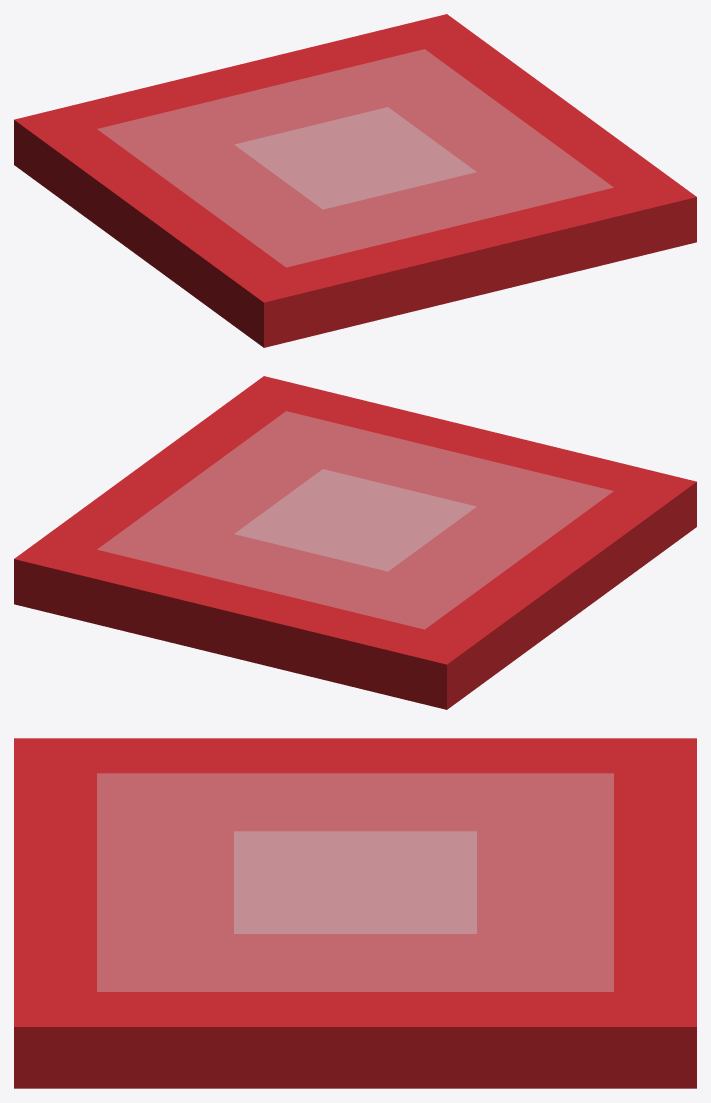
The model's file is TileRed.fbx.
The picture shows the model from 3 angles, top to bottom: view 1: azimuth 30°, elevation 25°; view 2: azimuth 150°, elevation 25°; view 3: azimuth 270°, elevation 25°; orthographic projection. The views are drawn at different scales.
Visible parts, largest first — view 1: Cube; view 2: Cube; view 3: Cube.
Part boxes in pixels (x1=…): Cube: x1=14, y1=14, x2=696, y2=347; Cube: x1=14, y1=376, x2=696, y2=709; Cube: x1=14, y1=738, x2=696, y2=1088.
Size of the model in its own units: 100 by 10 by 100.
